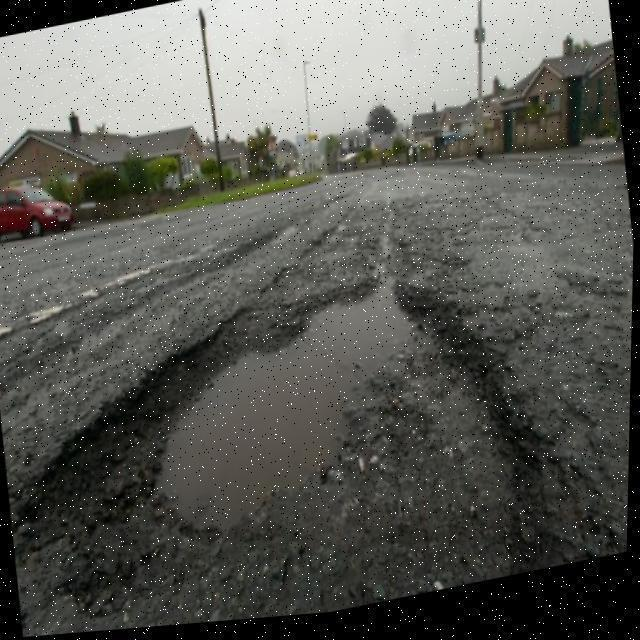Pothole: (20, 266, 549, 636)
